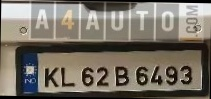character: (43, 66, 59, 87), (59, 66, 75, 87), (34, 8, 49, 30), (114, 65, 129, 86), (134, 9, 148, 31), (149, 64, 163, 85), (179, 64, 193, 85), (85, 9, 99, 30), (161, 10, 174, 32), (80, 66, 94, 86), (135, 65, 149, 85), (164, 65, 178, 85), (59, 8, 73, 28), (110, 10, 123, 31), (96, 66, 109, 86)
